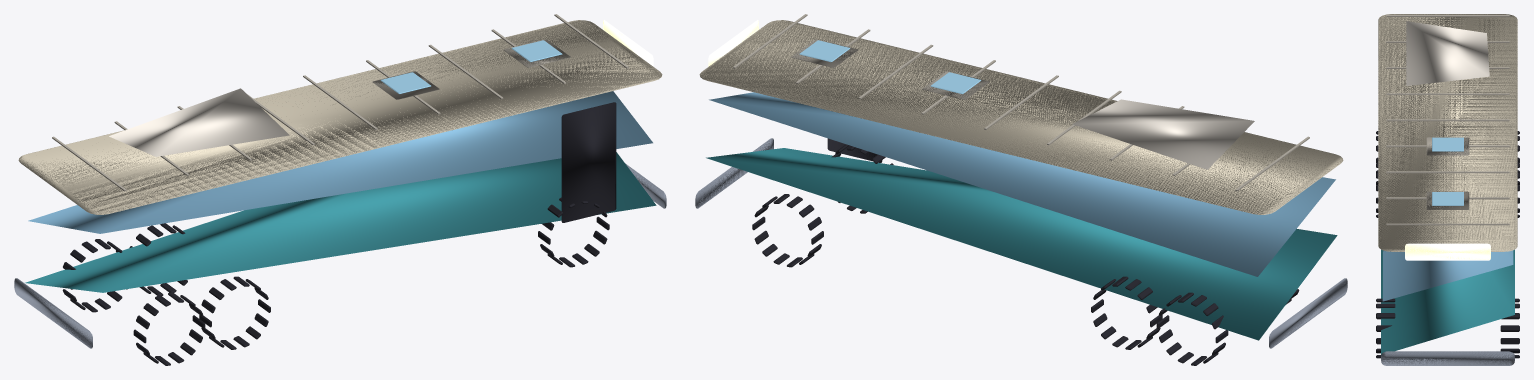
Rendered from bus.glb.
3 renders of one model, left to right at view 1: azimuth 30°, elevation 25°; view 2: azimuth 150°, elevation 25°; view 3: azimuth 270°, elevation 25°, orthographic. The views are drawn at different scales.
Visible parts, largest first — view 1: bus; view 2: bus; view 3: bus.
Part boxes in pixels (box(x1,y1,x2,y2)): bus: box(14, 14, 666, 365); bus: box(695, 14, 1347, 365); bus: box(1376, 14, 1519, 365).
Size of the model in its own units: 10.52 by 3.42 by 2.68.
Materials: 1 (1 with a texture image).
